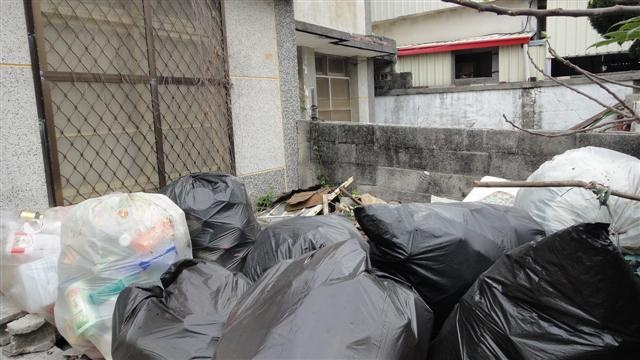plastic_bag: (442, 219, 639, 360), (213, 236, 434, 360), (55, 191, 194, 360), (513, 146, 640, 248), (159, 170, 263, 260)
